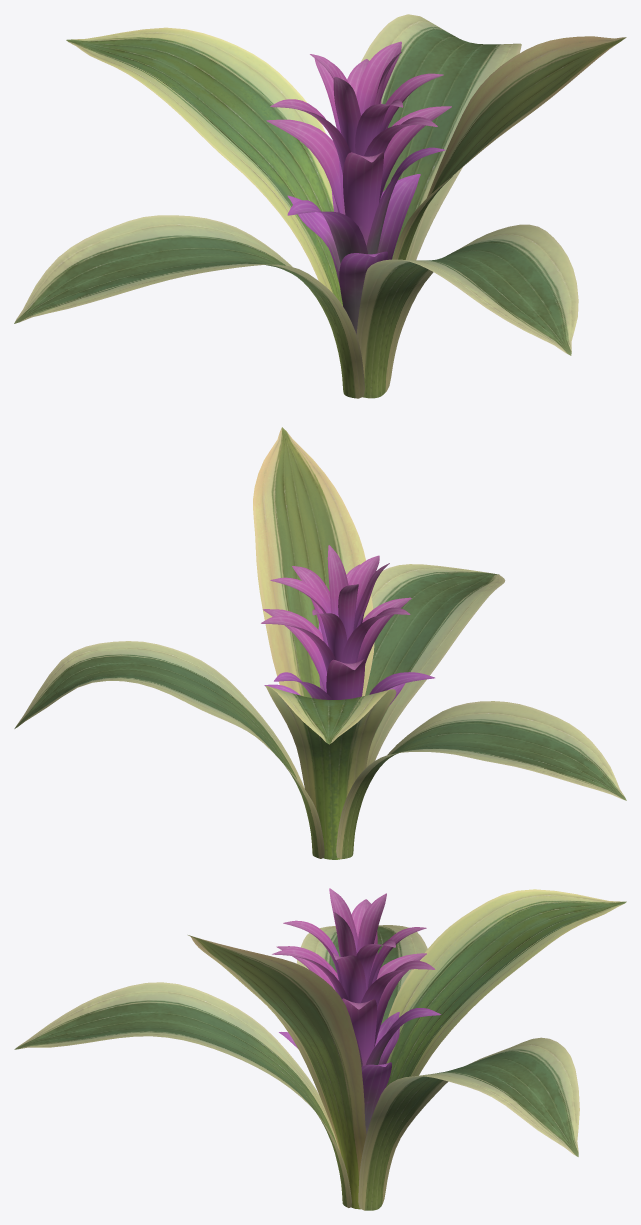
File: bromelia3.fbx
3 views of the same model, one above another, from view 1: azimuth 30°, elevation 25°; view 2: azimuth 150°, elevation 25°; view 3: azimuth 270°, elevation 25° (orthographic). The views are drawn at different scales.
Parts seen in each view (by area): view 1: MH_Bromeliad_03_Shape; view 2: MH_Bromeliad_03_Shape; view 3: MH_Bromeliad_03_Shape.
Part boxes in pixels (<box>): MH_Bromeliad_03_Shape: <box>14,14,626,398</box>; MH_Bromeliad_03_Shape: <box>14,427,626,859</box>; MH_Bromeliad_03_Shape: <box>14,888,626,1210</box>.
Bounding box in the file's own units: 45.32 × 28.01 × 46.21.
Materials: 2 (2 with a texture image).
